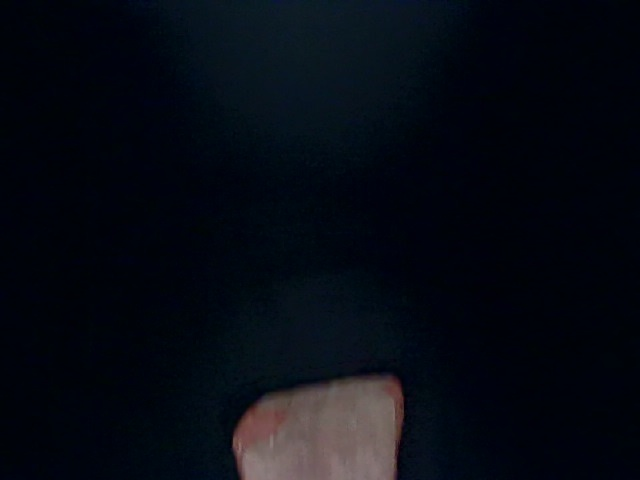KHSLJ: (1, 296, 253, 480)
